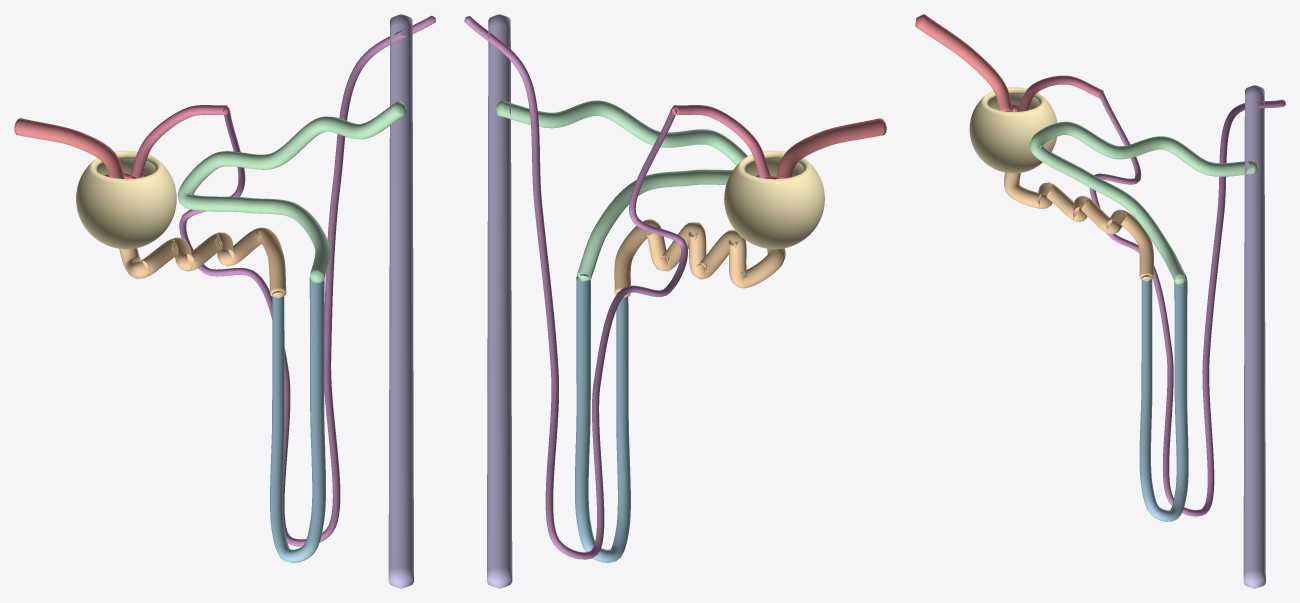
The model's file is nephron.glb.
The picture shows the model from 3 angles, left to right: view 1: azimuth 30°, elevation 25°; view 2: azimuth 150°, elevation 25°; view 3: azimuth 330°, elevation 25°; orthographic projection. The views are drawn at different scales.
Visible parts, largest first — view 1: collecting_duct, loop_of_henle, bowmans_capsule, distal_tubule, capillaries, proximal_tubule, afferent_arteriole, efferent_arteriole; view 2: collecting_duct, capillaries, loop_of_henle, bowmans_capsule, distal_tubule, proximal_tubule, afferent_arteriole, efferent_arteriole; view 3: collecting_duct, distal_tubule, loop_of_henle, capillaries, bowmans_capsule, proximal_tubule, afferent_arteriole, efferent_arteriole.
Boxes of the visible parts, x1,y1,x2,y2 form: collecting_duct: [388, 14, 413, 588]; loop_of_henle: [270, 273, 325, 562]; bowmans_capsule: [76, 150, 176, 249]; distal_tubule: [177, 101, 406, 283]; capillaries: [179, 15, 435, 546]; proximal_tubule: [119, 227, 286, 297]; afferent_arteriole: [14, 118, 124, 178]; efferent_arteriole: [129, 105, 228, 178]; collecting_duct: [487, 14, 512, 588]; capillaries: [464, 16, 687, 559]; loop_of_henle: [575, 273, 630, 562]; bowmans_capsule: [724, 150, 824, 249]; distal_tubule: [495, 100, 747, 281]; proximal_tubule: [614, 219, 785, 297]; afferent_arteriole: [776, 118, 886, 178]; efferent_arteriole: [671, 105, 770, 178]; collecting_duct: [1243, 85, 1265, 588]; distal_tubule: [1029, 121, 1258, 284]; loop_of_henle: [1139, 275, 1188, 521]; capillaries: [1089, 92, 1285, 516]; bowmans_capsule: [969, 87, 1057, 173]; proximal_tubule: [1004, 172, 1153, 281]; afferent_arteriole: [915, 14, 1012, 111]; efferent_arteriole: [1017, 75, 1103, 111].
Size of the model in its own units: 0.1299 by 0.1698 by 0.027.
